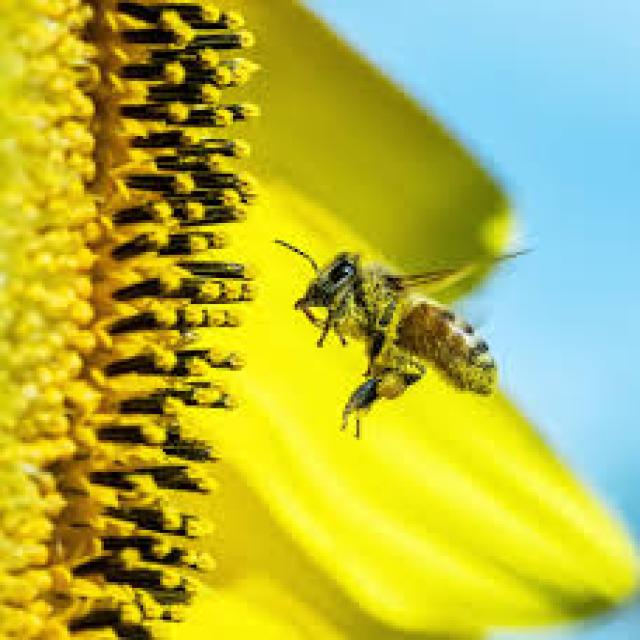Bees: (272, 237, 532, 444)
